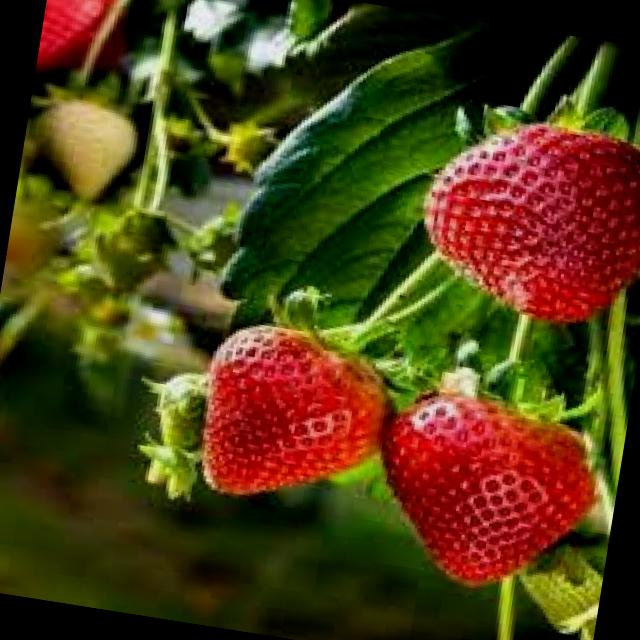strawberry: (360, 364, 610, 608), (400, 105, 640, 341), (167, 296, 402, 518)
